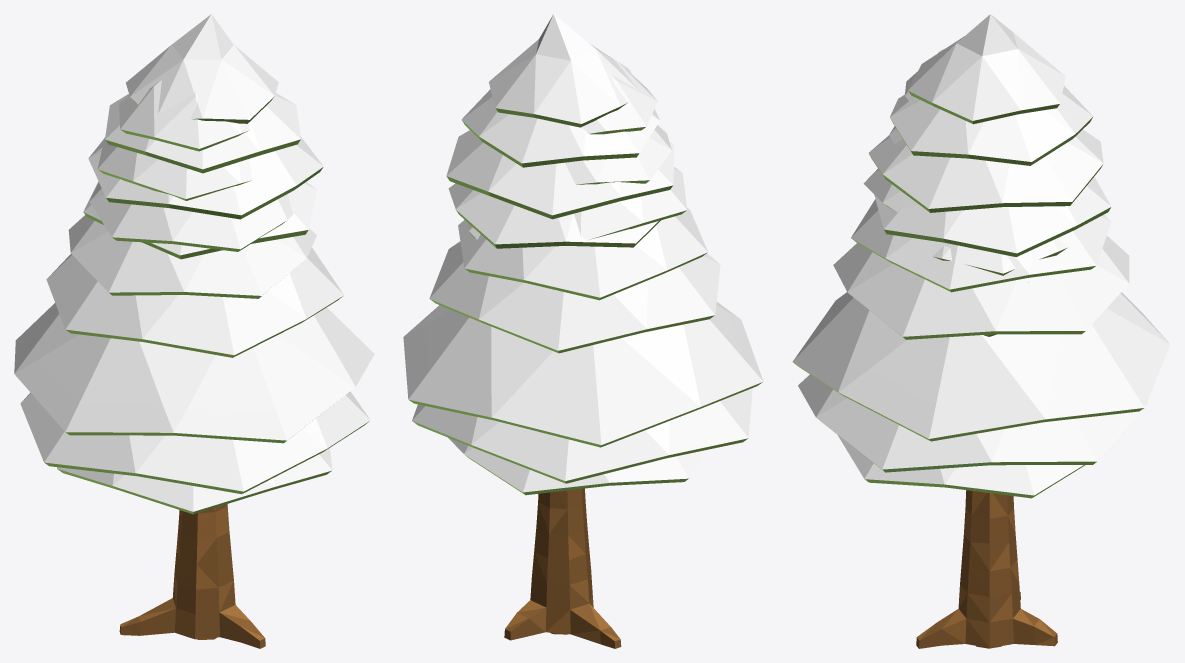
The model's file is LowPolyPineTrees.fbx.
The picture shows the model from 3 angles, left to right: view 1: azimuth 30°, elevation 25°; view 2: azimuth 150°, elevation 25°; view 3: azimuth 270°, elevation 25°; orthographic projection. The views are drawn at different scales.
Visible parts, largest first — view 1: PineTree1Snow, PineTree2Snow, PineTree2; view 2: PineTree1Snow, PineTree2Snow, PineTree2; view 3: PineTree1Snow, PineTree2Snow, PineTree2.
Boxes of the visible parts, x1,y1,x2,y2 form: PineTree1Snow: (14, 80, 374, 514); PineTree2Snow: (83, 14, 323, 259); PineTree2: (119, 504, 265, 648); PineTree1Snow: (403, 59, 763, 495); PineTree2Snow: (446, 14, 674, 248); PineTree2: (504, 488, 621, 648); PineTree1Snow: (792, 48, 1170, 498); PineTree2Snow: (868, 14, 1111, 336); PineTree2: (916, 490, 1057, 648).
Bounding box in the file's own units: 1247 × 2331 × 1267.
